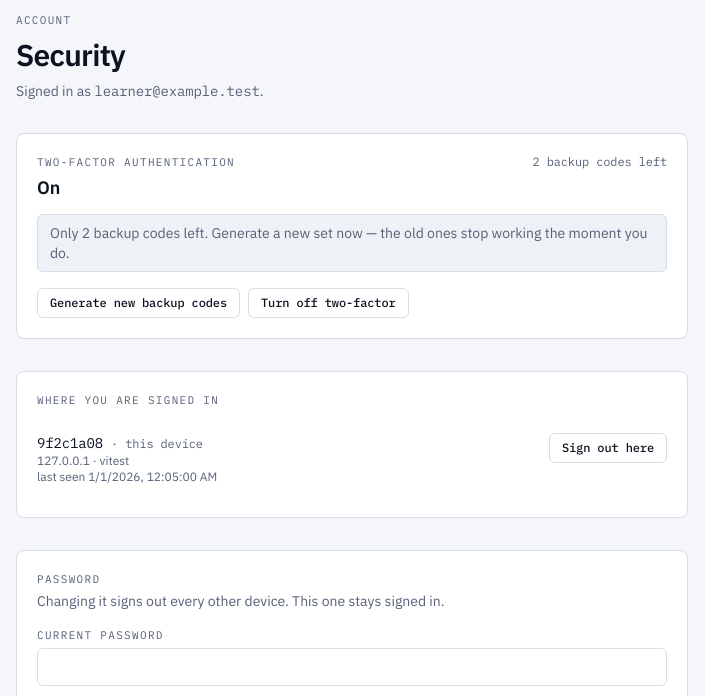
it: SecuritySettingsPage enrollment wizard › shows the enabled state, the remaining count and a confirmation before disabling
The image size is (705, 696).
Expected: the element with test id "mfa-panel" shows "2 backup codes left", [532,154,667,168]
Expected: the element with test id "mfa-panel" shows "on", [37,176,60,199]
Click the button "Turn off two-factor" at (328, 303), box [248,288,408,318]
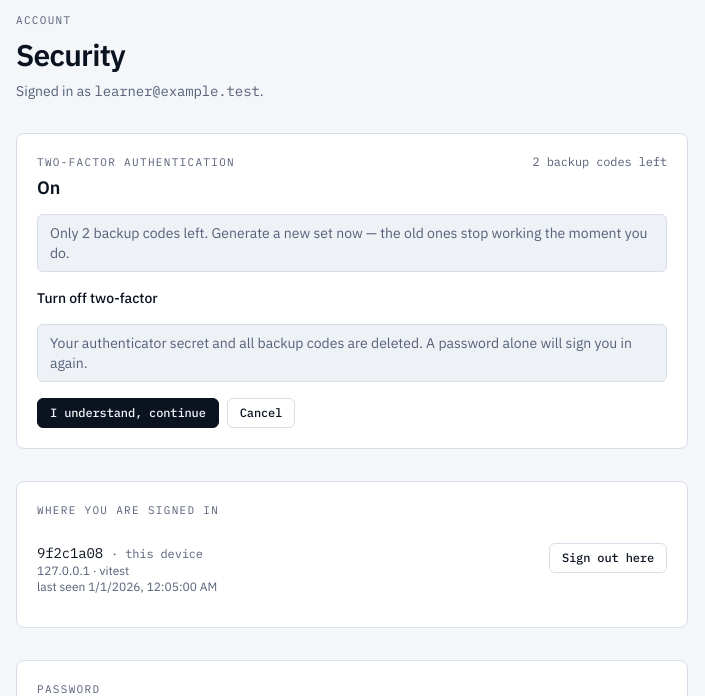
Expected: the text "all backup codes are deleted" is shown, [50,334,632,372]
Click the button "I understand, continue" at (128, 413), box [37,398,219,428]
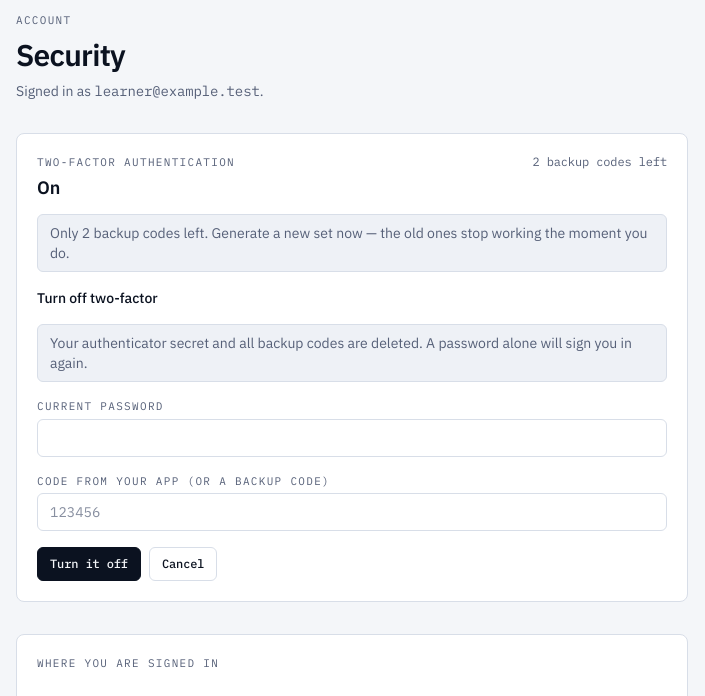
Expected: the password field labelled "Current password" is shown, [37,418,667,456]
